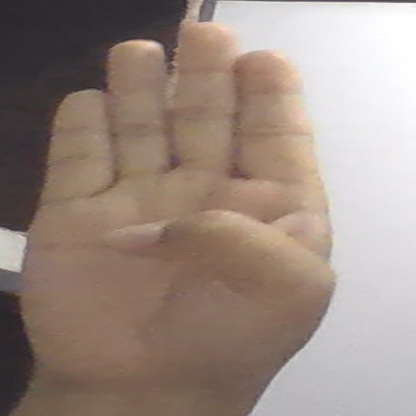B: (21, 23, 335, 405)
